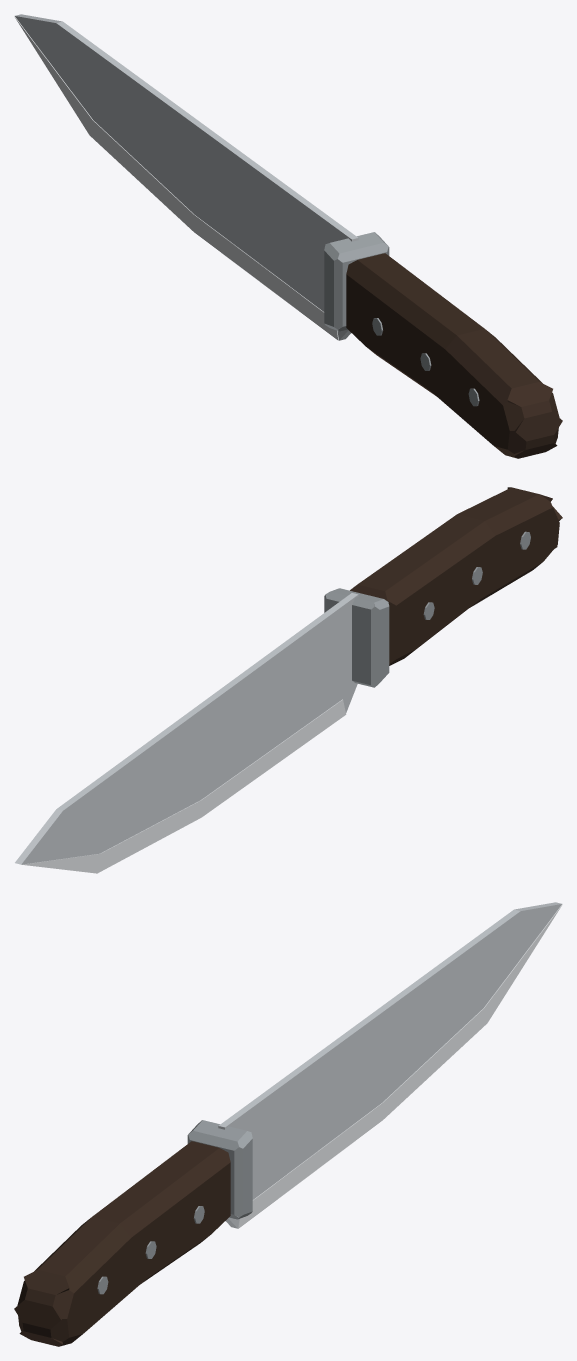
File: couteau.glb
3 renders of one model, top to bottom at view 1: azimuth 30°, elevation 25°; view 2: azimuth 150°, elevation 25°; view 3: azimuth 330°, elevation 25°, orthographic.
Visible parts, largest first — view 1: blade, grip, bevel, bolster; view 2: blade, grip, bevel, bolster, rivets; view 3: blade, grip, bevel, bolster.
Boxes of the visible parts, x1,y1,x2,y2 form: blade: [15, 14, 358, 340]; grip: [346, 253, 562, 458]; bevel: [14, 16, 338, 340]; bolster: [324, 232, 389, 331]; blade: [15, 593, 358, 864]; grip: [350, 487, 562, 665]; bevel: [22, 699, 346, 873]; bolster: [324, 588, 389, 687]; rivets: [423, 531, 530, 619]; blade: [218, 902, 561, 1228]; grip: [14, 1141, 230, 1346]; bevel: [238, 904, 562, 1228]; bolster: [187, 1120, 252, 1219].
Bounding box in the file's own units: 0.02 × 0.038 × 0.3253.
4 materials, 4 textured.
